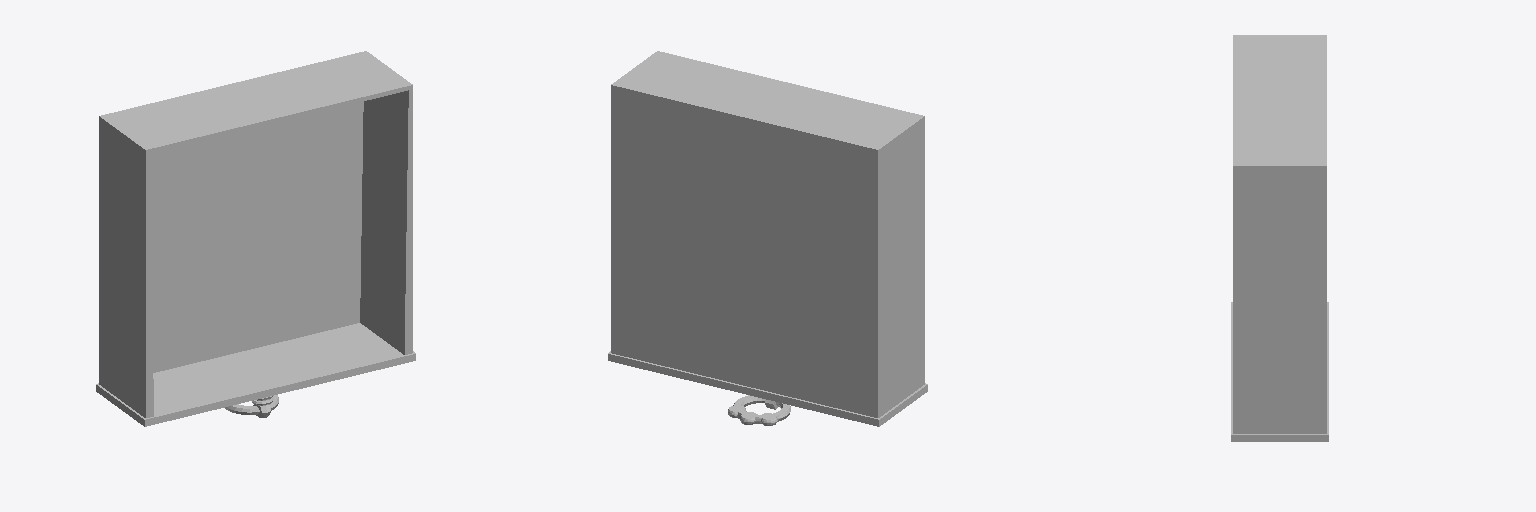
Rendered from SmallDrawer.obj.
The picture shows the model from 3 angles: view 1: azimuth 30°, elevation 25°; view 2: azimuth 150°, elevation 25°; view 3: azimuth 270°, elevation 25°; orthographic projection.
Visible parts, largest first — view 1: SmallDrawer; view 2: SmallDrawer; view 3: SmallDrawer.
Part boxes in pixels (left/top/right/bottom): SmallDrawer: left=96, top=51, right=415, bottom=426; SmallDrawer: left=608, top=51, right=927, bottom=426; SmallDrawer: left=1231, top=35, right=1328, bottom=441.
Bounding box in the file's own units: 5.96 × 6.52 × 1.86.